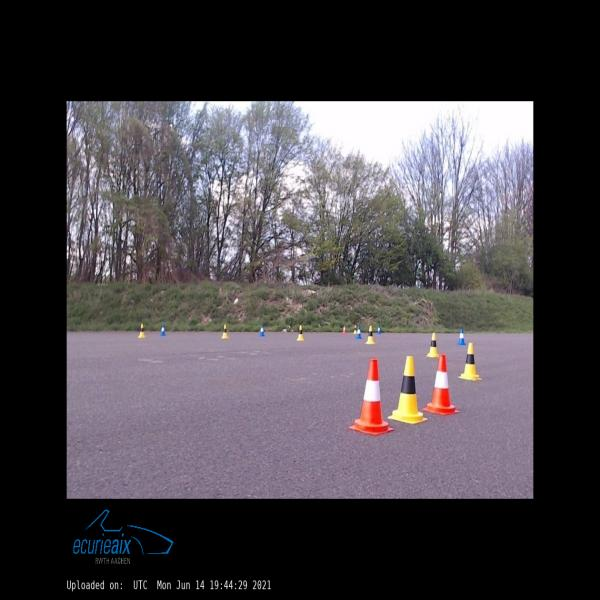blue_cone: (458, 328, 466, 345), (259, 324, 265, 336), (356, 327, 362, 339), (160, 324, 166, 335), (377, 325, 381, 334)
orange_cone: (348, 360, 393, 434), (422, 355, 460, 415), (342, 326, 347, 334)
yellow_cone: (388, 356, 427, 424), (458, 343, 482, 380), (426, 333, 439, 357), (366, 325, 375, 344), (138, 323, 145, 338), (297, 326, 304, 340), (222, 325, 228, 338), (353, 325, 357, 334)
